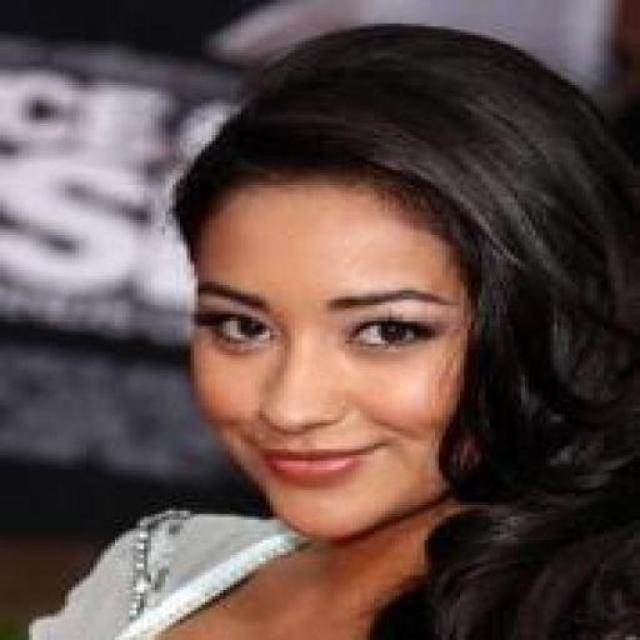bareface: (166, 105, 514, 544)
